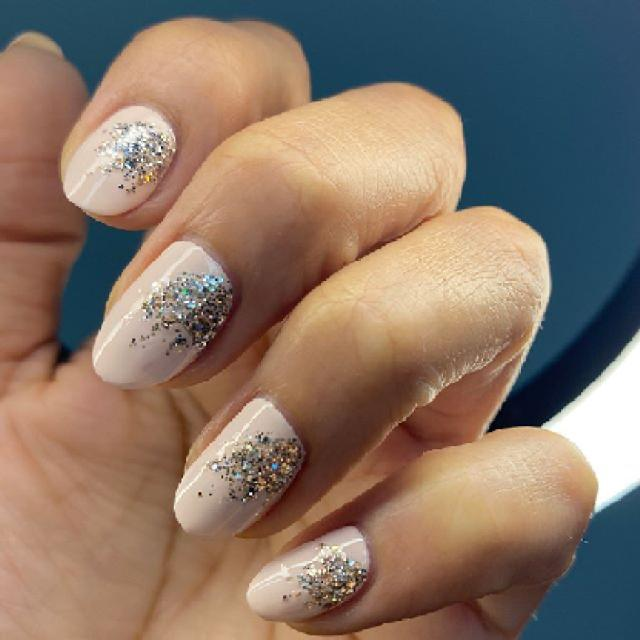Nail: (92, 241, 232, 388), (174, 398, 306, 537), (64, 106, 176, 215), (246, 526, 370, 621)
